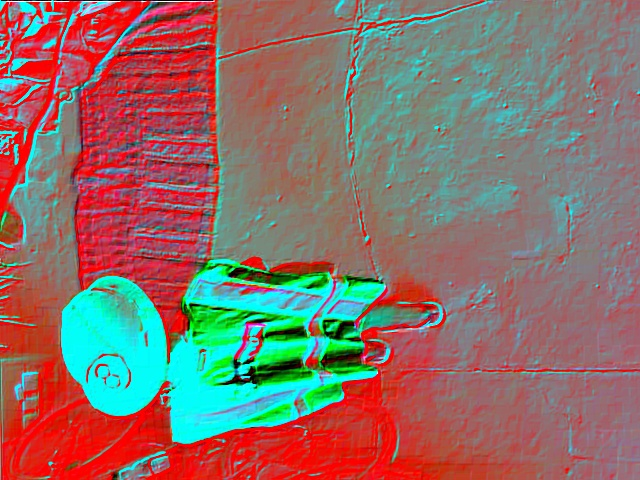eight: (83, 352, 132, 396)
